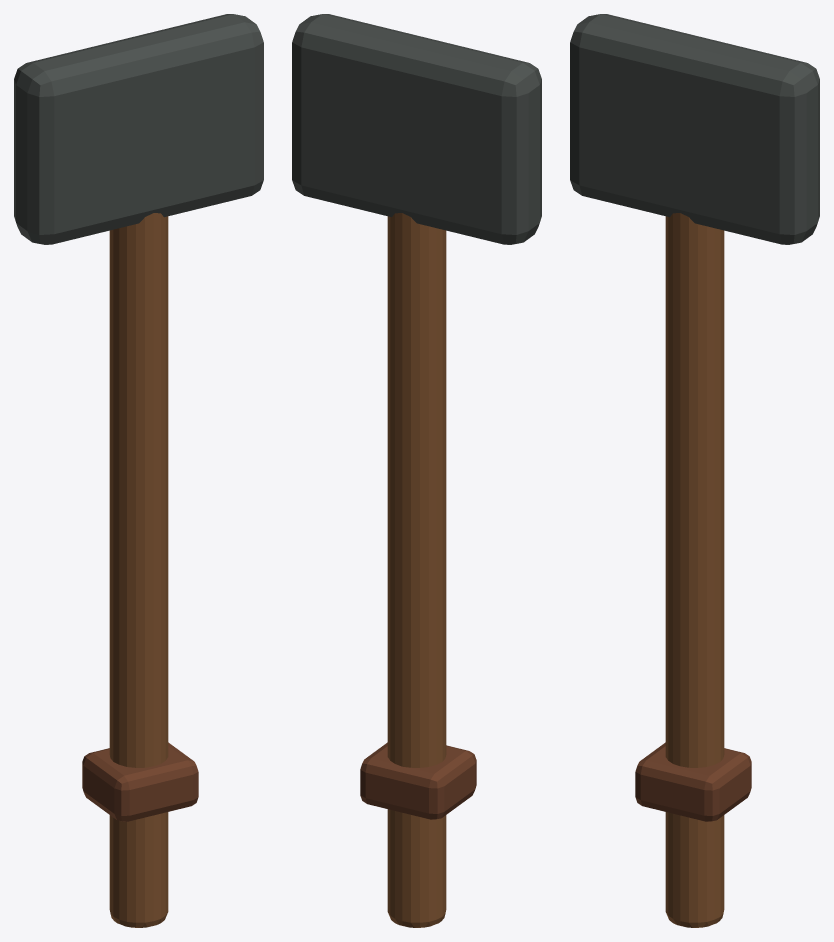
File: barrosan_worker_tool.glb
The picture shows the model from 3 angles, left to right: view 1: azimuth 30°, elevation 25°; view 2: azimuth 150°, elevation 25°; view 3: azimuth 330°, elevation 25°; orthographic projection.
Visible parts, largest first — view 1: WorkTool_Axe_Head, WorkTool_Axe_Handle, WorkTool_Axe_Grip; view 2: WorkTool_Axe_Head, WorkTool_Axe_Handle, WorkTool_Axe_Grip; view 3: WorkTool_Axe_Head, WorkTool_Axe_Handle, WorkTool_Axe_Grip.
Boxes of the visible parts, left/top/right/bottom form: WorkTool_Axe_Head: left=14, top=14, right=263, bottom=244; WorkTool_Axe_Handle: left=109, top=213, right=168, bottom=927; WorkTool_Axe_Grip: left=82, top=742, right=198, bottom=821; WorkTool_Axe_Head: left=292, top=14, right=541, bottom=244; WorkTool_Axe_Handle: left=387, top=213, right=446, bottom=927; WorkTool_Axe_Grip: left=360, top=742, right=476, bottom=819; WorkTool_Axe_Head: left=570, top=14, right=819, bottom=244; WorkTool_Axe_Handle: left=665, top=213, right=724, bottom=927; WorkTool_Axe_Grip: left=635, top=742, right=751, bottom=821.
Bounding box in the file's own units: 0.48 × 1.71 × 0.15.
